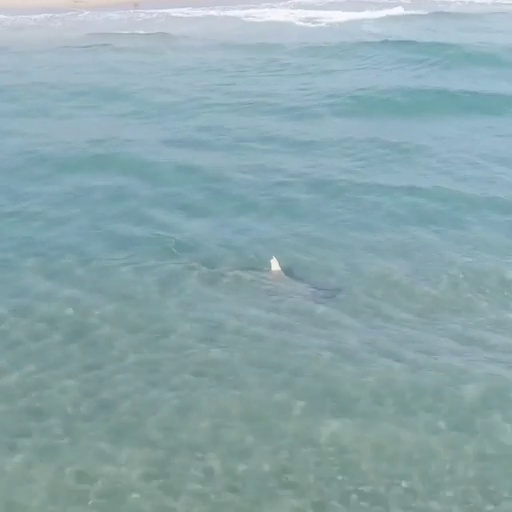shark: (177, 255, 344, 309)
